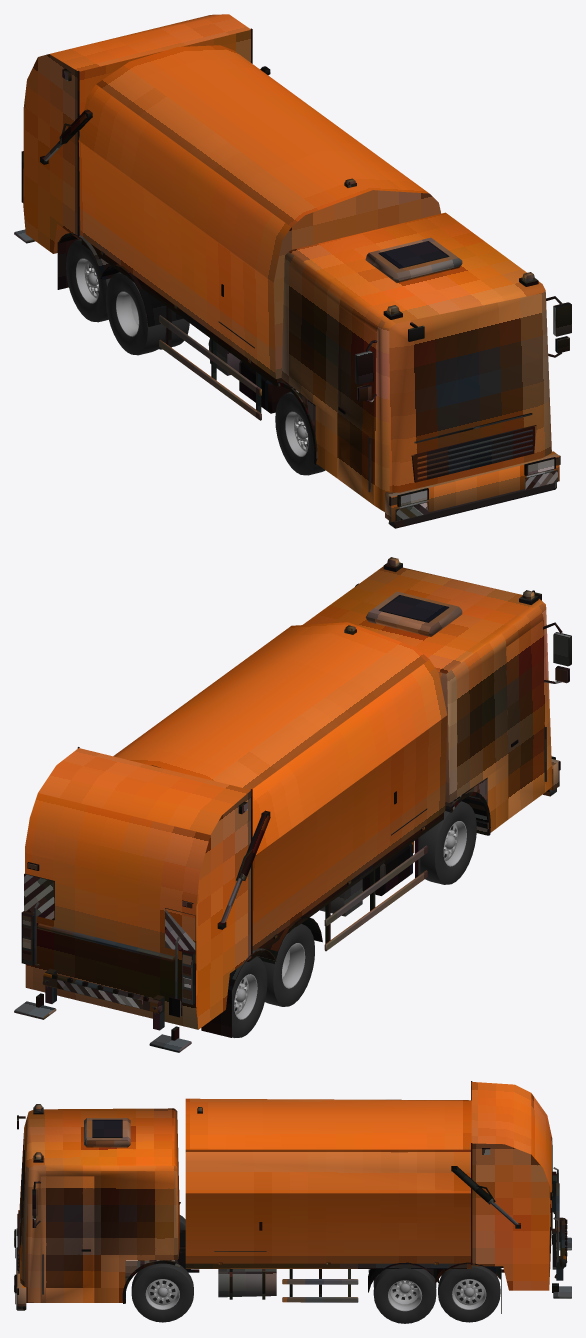
The model's file is muell_m.glb.
3 views of the same model, one above another, from view 1: azimuth 30°, elevation 25°; view 2: azimuth 150°, elevation 25°; view 3: azimuth 270°, elevation 25° (orthographic). The views are drawn at different scales.
Parts seen in each view (by area): view 1: koerper, rad_hr_gummi, rad_vr_gummi, rad_hr2_gummi, rad_vr_metall, rad_hr_metall, rad_hr2_metall; view 2: koerper, rad_vr_gummi, rad_hr_gummi, rad_hr2_gummi, rad_hr_metall, rad_vr_metall, rad_hr2_metall; view 3: koerper, rad_vl_gummi, rad_hl2_gummi, rad_hl_gummi, rad_hl_metall, rad_hl2_metall, rad_vl_metall.
Part boxes in pixels (<box>): koerper: <box>14,14,571,528</box>; rad_hr_gummi: <box>106,272,166,355</box>; rad_vr_gummi: <box>275,392,325,475</box>; rad_hr2_gummi: <box>66,239,110,322</box>; rad_vr_metall: <box>285,411,308,456</box>; rad_hr_metall: <box>116,291,139,336</box>; rad_hr2_metall: <box>76,258,99,303</box>; koerper: <box>14,557,571,1052</box>; rad_vr_gummi: <box>420,801,476,884</box>; rad_hr_gummi: <box>263,924,314,1006</box>; rad_hr2_gummi: <box>232,956,267,1037</box>; rad_hr_metall: <box>281,943,305,988</box>; rad_vr_metall: <box>443,821,466,866</box>; rad_hr2_metall: <box>234,974,257,1019</box>; koerper: <box>14,1081,571,1313</box>; rad_vl_gummi: <box>131,1263,193,1322</box>; rad_hl2_gummi: <box>438,1266,500,1322</box>; rad_hl_gummi: <box>373,1268,436,1323</box>; rad_hl_metall: <box>388,1280,422,1311</box>; rad_hl2_metall: <box>452,1279,486,1309</box>; rad_vl_metall: <box>145,1279,179,1309</box>.
Bounding box in the file's own units: 3.09 × 3.52 × 9.56.
Materials: 3 (1 with a texture image).
